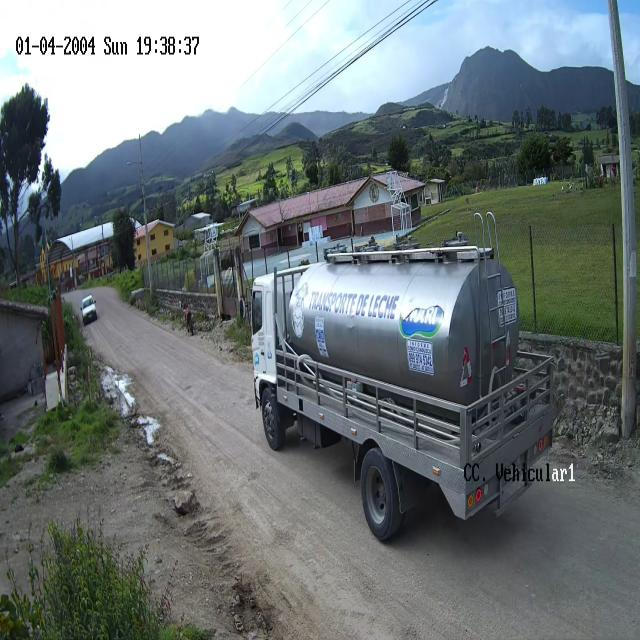TRUCK: (251, 249, 550, 546)
